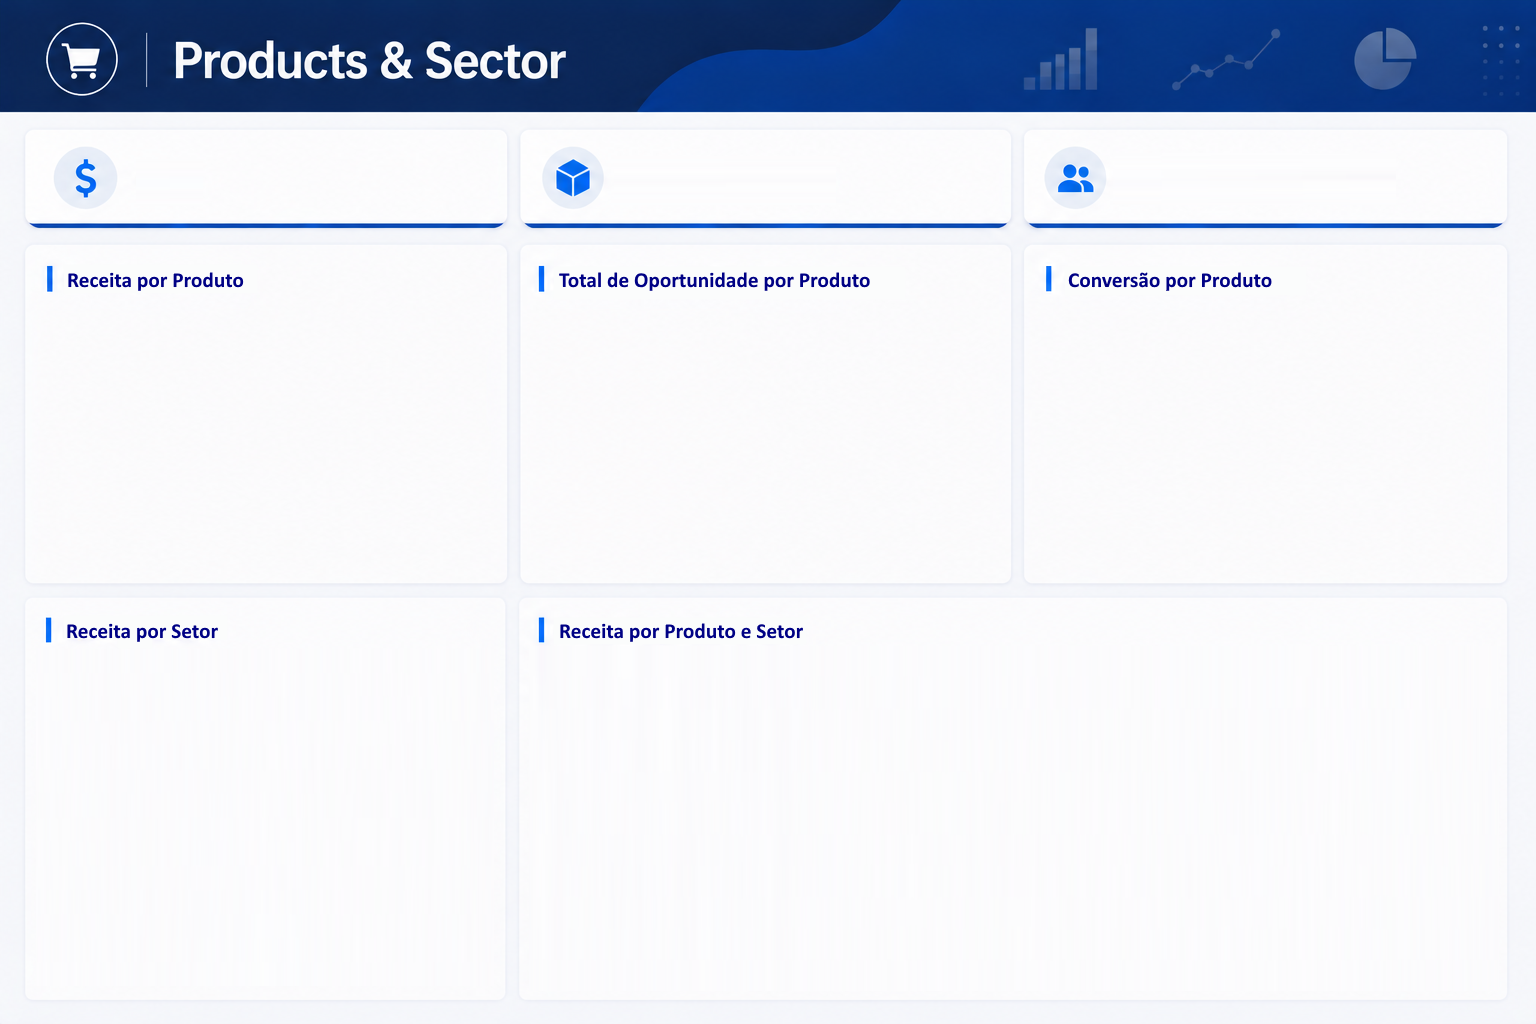

This screenshot's page, from the dashboard's own definition file:
{"tool":"powerbi","page":{"name":"Products & Sector","canvas":[1280,720],"ordinal":2},"visuals":[{"type":"cardVisual","fields":{"Data":["sales_pipeline.Receita"]},"box":[89,33,280,174],"z":0},{"type":"cardVisual","fields":{"Data":["sales_pipeline.Produto Mais Vendido"]},"box":[513,27,280,185],"z":1000},{"type":"cardVisual","fields":{"Data":["sales_pipeline.Produto Mais Vendido"]},"box":[930.1,16,296.2,206.6],"z":2000},{"type":"barChart","fields":{"Category":["sales_pipeline.product"],"Y":["sales_pipeline.Receita"]},"box":[14,201,401,209],"z":3000},{"type":"barChart","fields":{"Category":["sales_pipeline.product"],"Y":["sales_pipeline.Total Oportunidade"]},"box":[427,201,408,209],"z":4000},{"type":"barChart","fields":{"Category":["sales_pipeline.product"],"Y":["sales_pipeline.Conversão"]},"box":[849,201,400,209],"z":5000},{"type":"pivotTable","fields":{"Rows":["accounts.sector"],"Values":["sales_pipeline.Receita"]},"box":[42,456,373,264],"z":6000},{"type":"pivotTable","fields":{"Values":["sales_pipeline.Receita"],"Rows":["accounts.sector"],"Columns":["sales_pipeline.product"]},"box":[439,457,820,263],"z":7000}]}

Visuals, with their boxes on the page's 1280x720 design canvas (x1, y1, x2, y2). These are canvas units, not pixel positions in the 1536x1024 screenshot, which may show the page scaled, cropped or inside an application window:
cardVisual - sales_pipeline.Receita: pyautogui.locateOnScreen(89, 33, 369, 207)
cardVisual - sales_pipeline.Produto Mais Vendido: pyautogui.locateOnScreen(513, 27, 793, 212)
cardVisual - sales_pipeline.Produto Mais Vendido: pyautogui.locateOnScreen(930, 16, 1226, 223)
barChart - sales_pipeline.product x sales_pipeline.Receita: pyautogui.locateOnScreen(14, 201, 415, 410)
barChart - sales_pipeline.product x sales_pipeline.Total Oportunidade: pyautogui.locateOnScreen(427, 201, 835, 410)
barChart - sales_pipeline.product x sales_pipeline.Conversão: pyautogui.locateOnScreen(849, 201, 1249, 410)
pivotTable - accounts.sector x sales_pipeline.Receita: pyautogui.locateOnScreen(42, 456, 415, 720)
pivotTable - sales_pipeline.Receita x accounts.sector: pyautogui.locateOnScreen(439, 457, 1259, 720)
